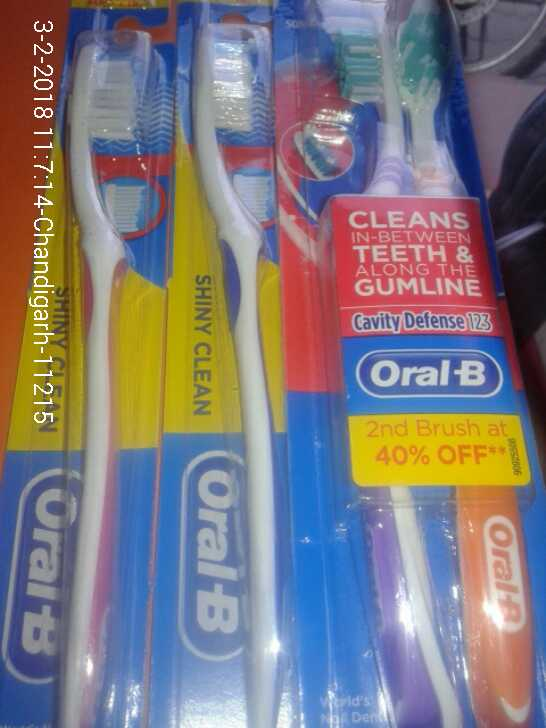oralb: (321, 19, 530, 726), (177, 23, 300, 728), (50, 40, 139, 728)
